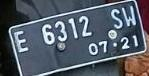clone-license-plate: (7, 0, 148, 73)
